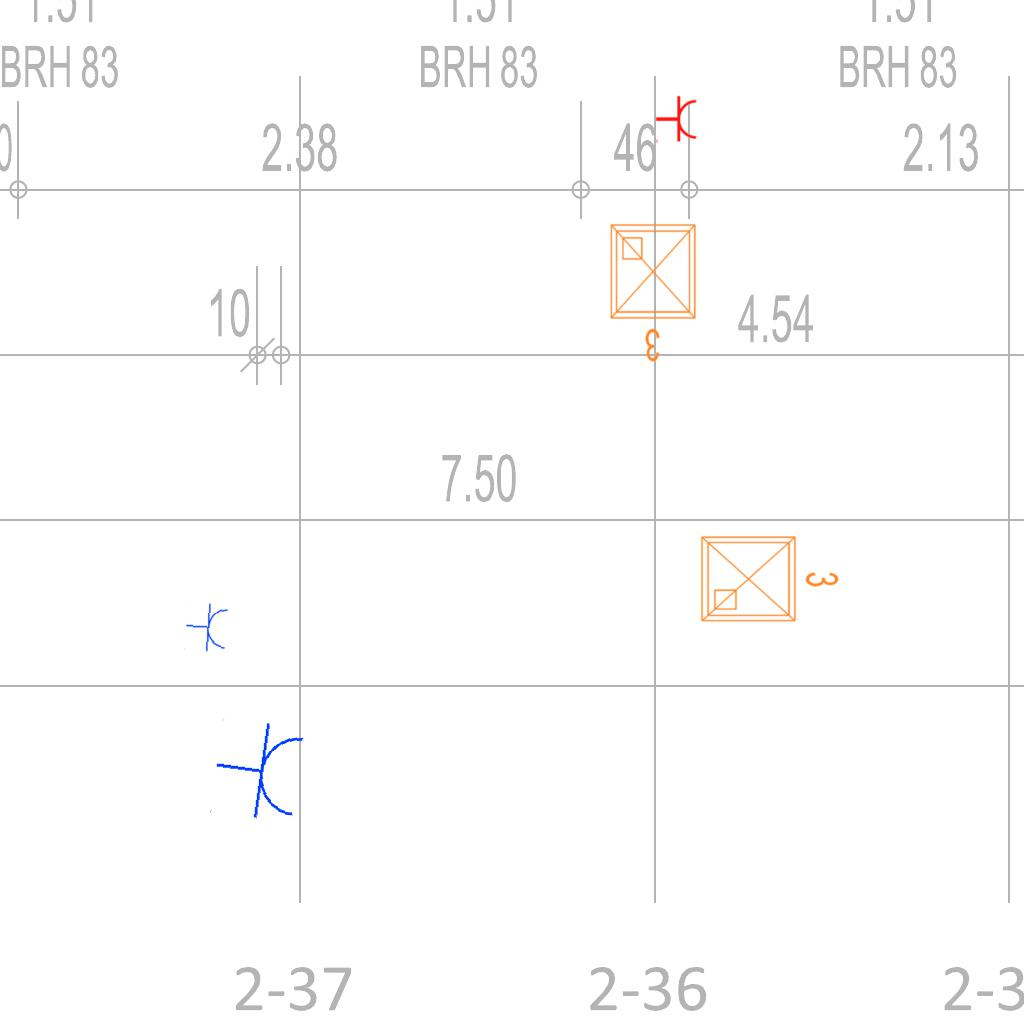Einbaudownlights_LED_Konferenzraeume: (603, 217, 707, 367), (694, 525, 844, 629)
Schukosteckdose_einfach: (208, 715, 310, 828), (183, 601, 231, 654), (655, 95, 698, 145)
